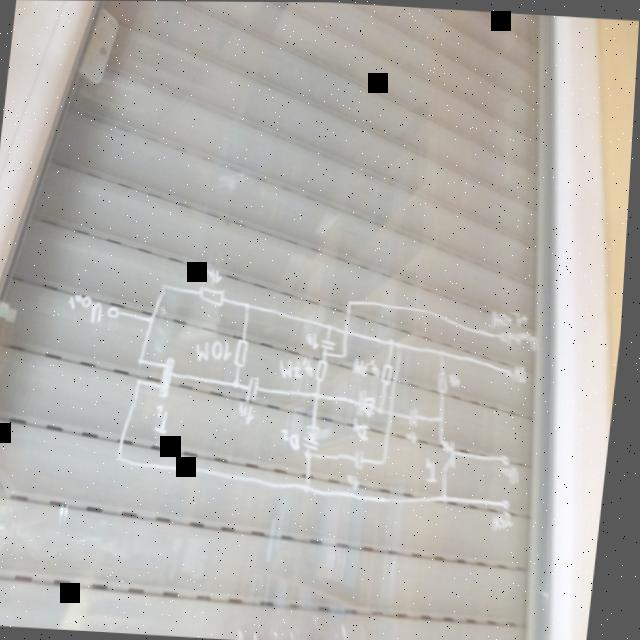capacitor: (250, 375, 266, 403), (356, 448, 374, 472), (412, 407, 427, 430), (324, 337, 342, 353)
crossover: (391, 407, 402, 418), (345, 328, 355, 338)
diode: (361, 390, 382, 419), (308, 422, 328, 452)
junction: (246, 301, 258, 312), (237, 379, 247, 391), (446, 494, 456, 504), (442, 349, 452, 359), (310, 484, 320, 494), (309, 451, 319, 461), (317, 391, 327, 401), (152, 315, 161, 326), (386, 457, 395, 467), (382, 406, 390, 416), (331, 323, 338, 333), (443, 416, 451, 424), (393, 339, 400, 347), (122, 455, 129, 463), (401, 342, 408, 349), (166, 284, 172, 292), (351, 301, 358, 307), (347, 353, 353, 359), (327, 352, 333, 358)
resistor: (200, 285, 231, 309), (236, 337, 255, 370), (319, 359, 335, 384), (440, 370, 454, 395), (385, 363, 399, 387)
terminal: (110, 306, 125, 321), (504, 452, 518, 467), (507, 499, 518, 511), (509, 369, 518, 379), (503, 332, 512, 342)
text: (71, 294, 109, 325), (199, 339, 239, 365), (282, 356, 320, 381), (495, 310, 535, 331), (510, 331, 546, 353), (357, 356, 387, 379), (157, 405, 177, 437), (284, 428, 310, 452), (497, 511, 522, 534), (242, 402, 263, 426), (503, 466, 527, 487), (357, 418, 377, 443), (429, 458, 447, 485), (308, 331, 326, 351), (207, 268, 227, 285), (351, 473, 368, 492), (517, 365, 533, 384), (409, 430, 425, 446), (453, 372, 467, 389)
transistor: (138, 355, 181, 400), (442, 437, 465, 474)
